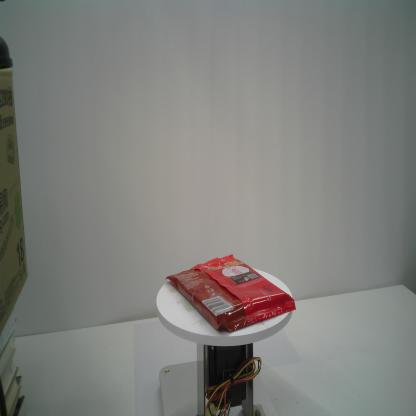Dessert: (165, 253, 297, 333)
